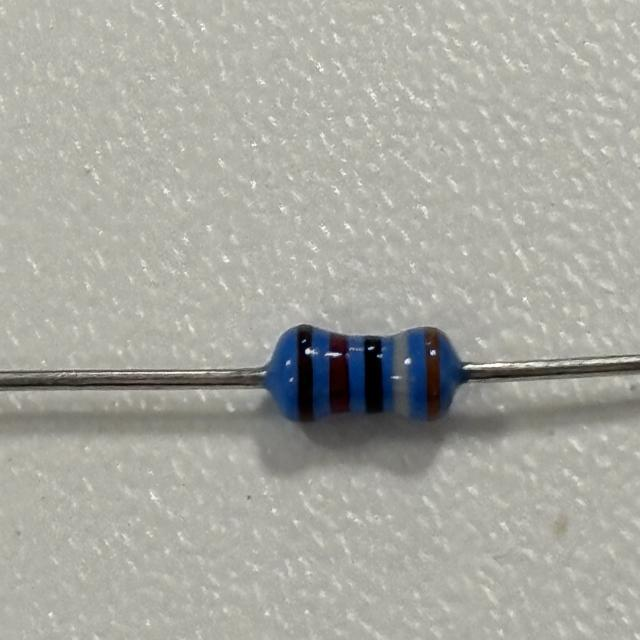resistor: (276, 319, 458, 426)
